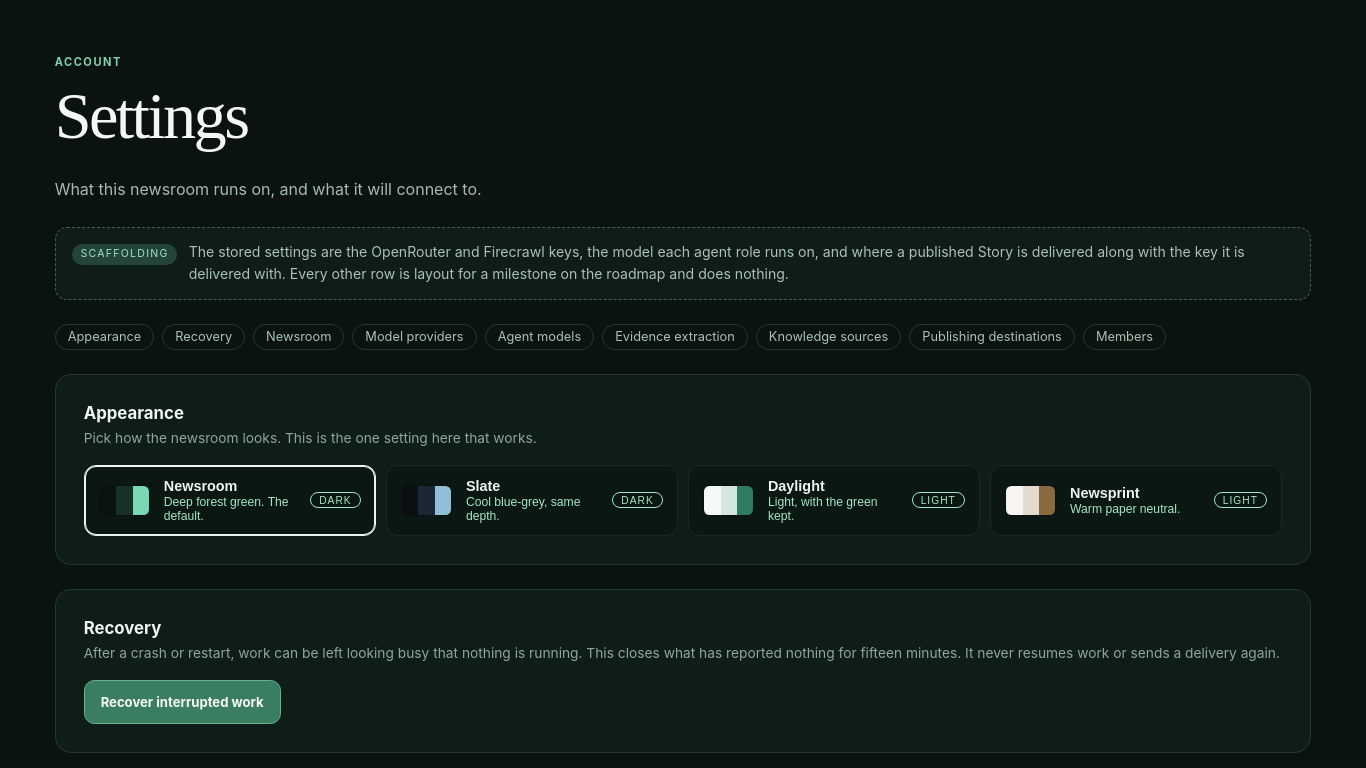
Scenario: settings workspace › offers to recover interrupted work through the recovery client and shows what it closed
Click the button "Recover interrupted work".
click(182, 702)  # box [84,680,281,724]
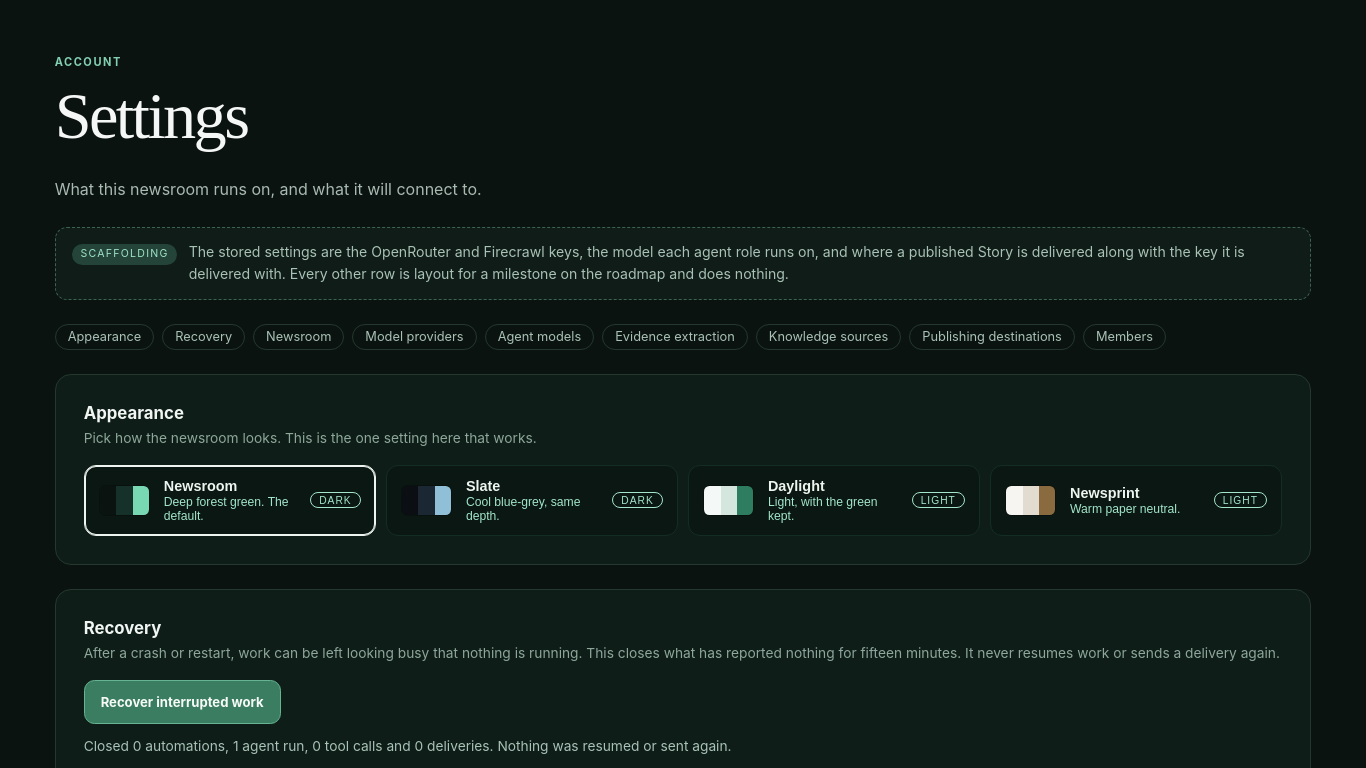
Expected: the message shows "Closed 0 automations, 1 agent run", [84,738,732,754]
